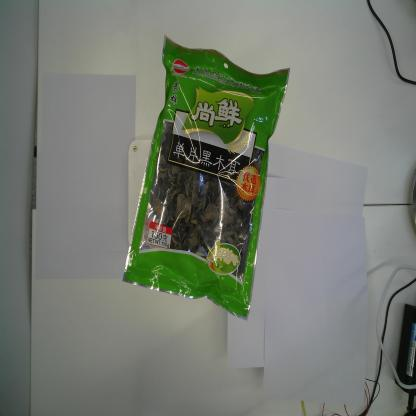Dried Food: (121, 33, 292, 323)
